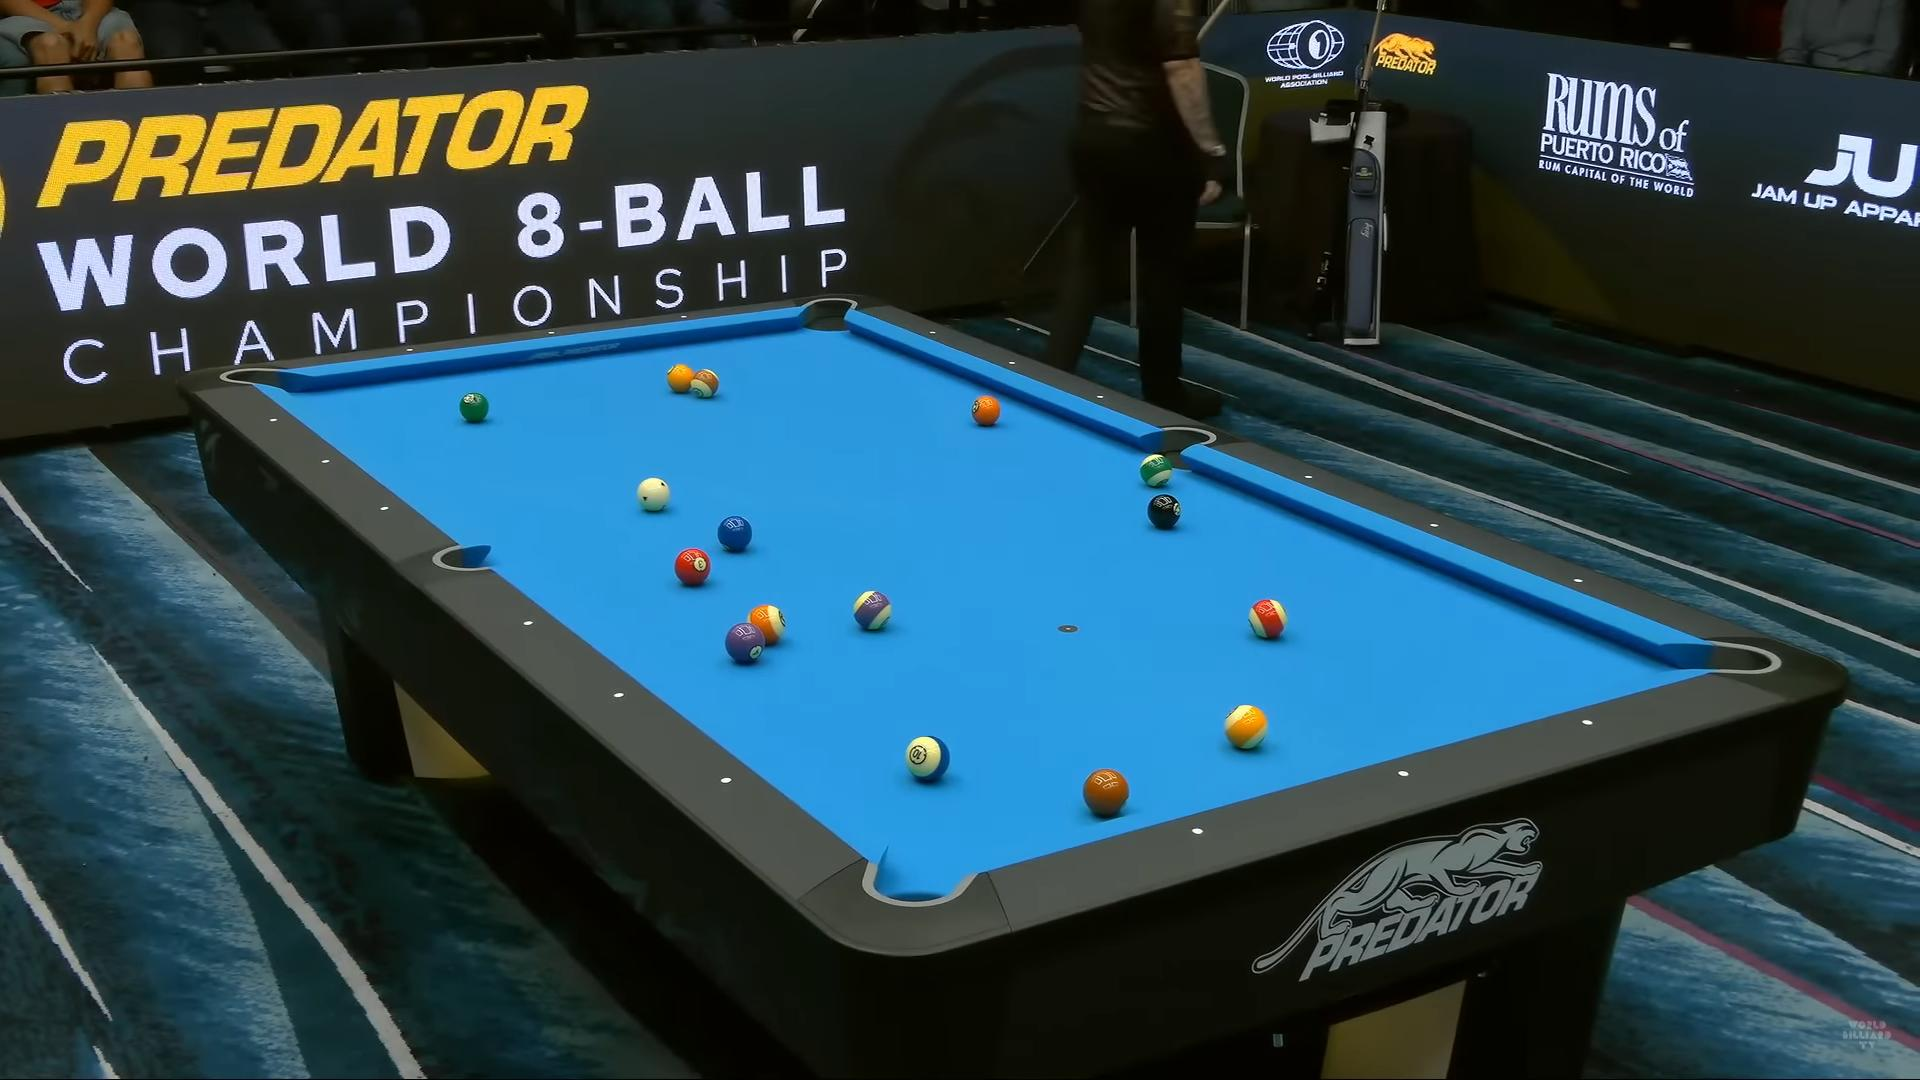Black: (1147, 495, 1182, 527)
Cue: (637, 477, 670, 512)
Dot: (373, 501, 396, 516), (262, 413, 285, 427), (541, 326, 563, 340), (673, 310, 695, 324), (1001, 356, 1023, 371), (1298, 469, 1320, 484), (1423, 518, 1445, 533), (1567, 574, 1589, 588), (1393, 766, 1415, 781), (400, 343, 421, 357), (715, 774, 737, 787), (517, 616, 539, 629), (314, 455, 336, 468), (922, 326, 944, 339), (1089, 390, 1112, 404), (608, 688, 629, 702), (1577, 716, 1598, 729), (1187, 824, 1208, 837)
Solid: (1083, 769, 1130, 816), (724, 622, 766, 662), (675, 549, 711, 585), (717, 517, 753, 551), (459, 393, 489, 422), (971, 396, 1000, 426), (666, 364, 694, 393)
Striped: (906, 736, 951, 781), (1225, 704, 1267, 749), (746, 604, 786, 645), (1249, 599, 1287, 638), (852, 589, 891, 628), (1139, 454, 1174, 487), (690, 368, 719, 398)
